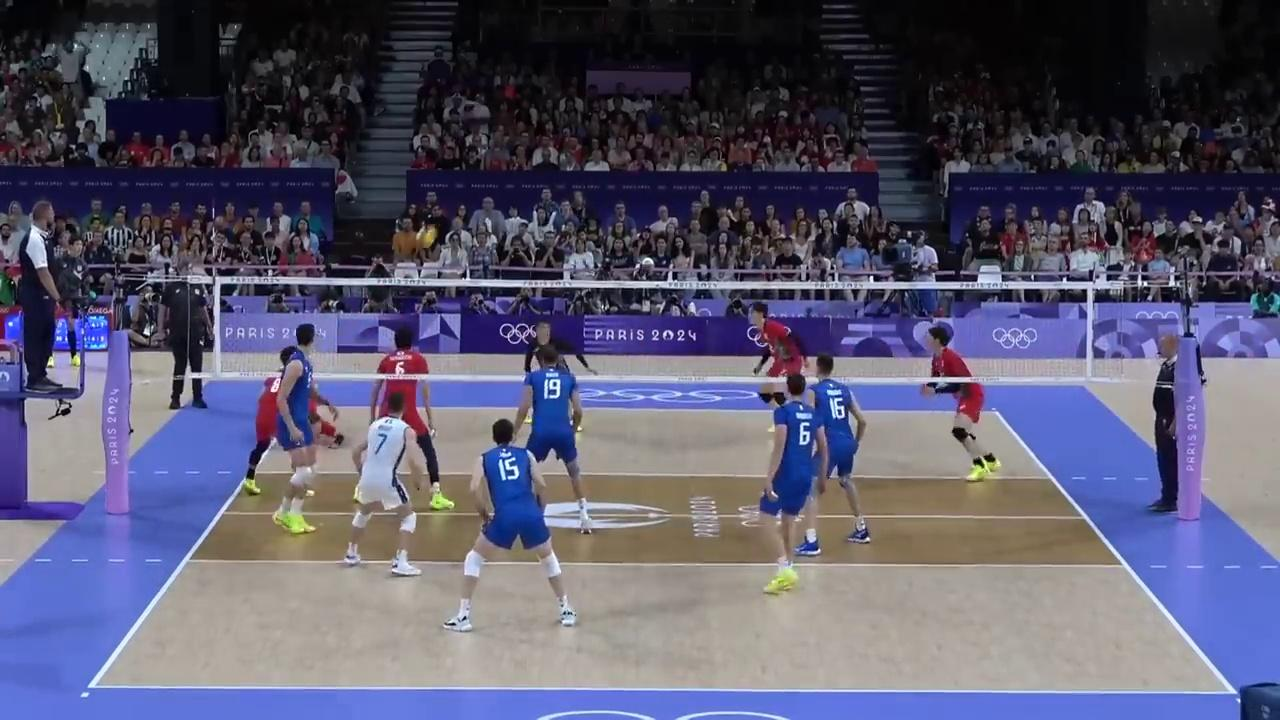ball: (418, 227, 436, 244)
